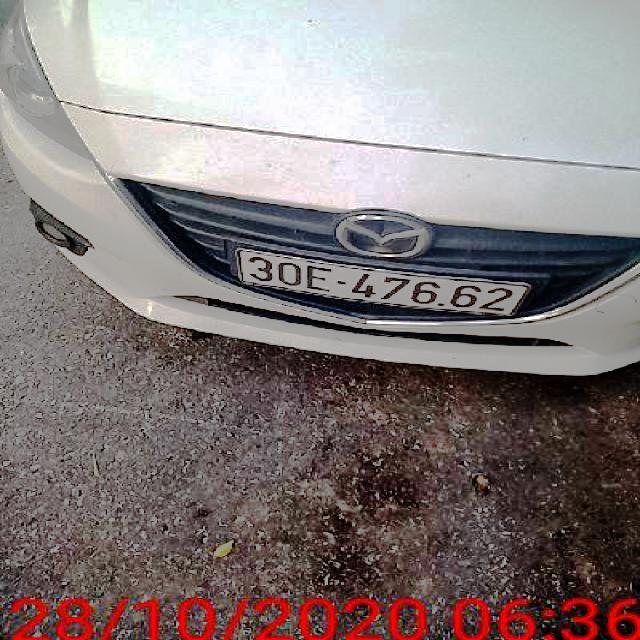license_plate: (243, 253, 526, 318)
